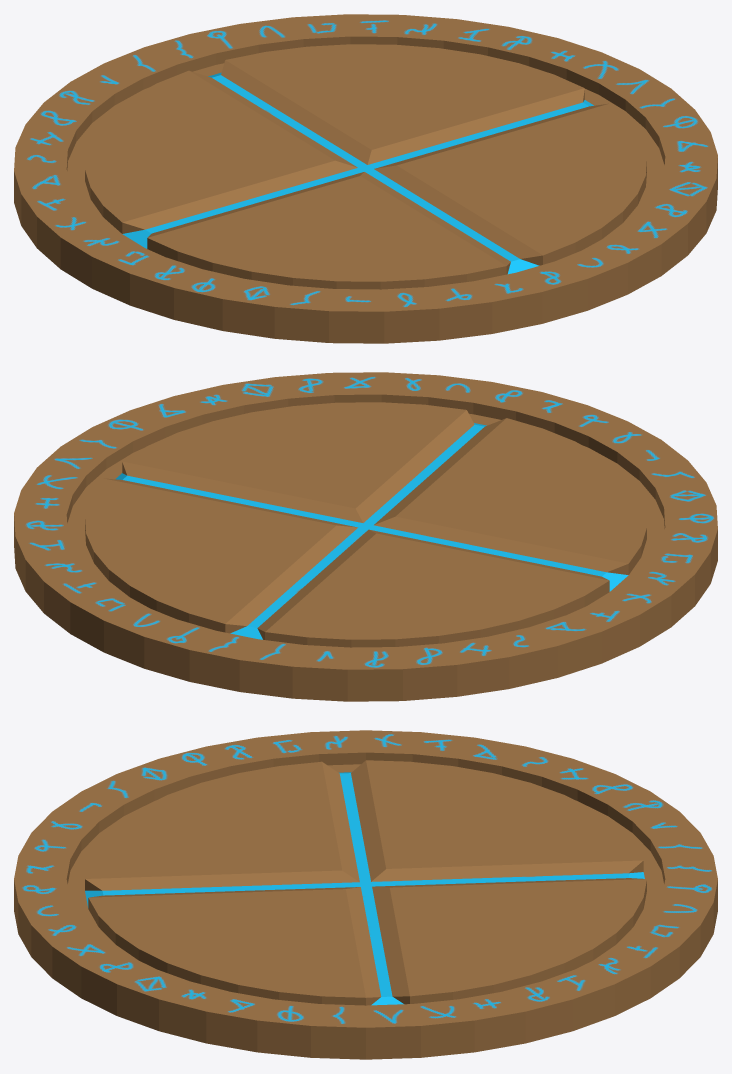
The model's file is portal.fbx.
3 views of the same model, one above another, from view 1: azimuth 30°, elevation 25°; view 2: azimuth 150°, elevation 25°; view 3: azimuth 270°, elevation 25° (orthographic).
Visible parts, largest first — view 1: Cilindro; view 2: Cilindro; view 3: Cilindro.
Boxes of the visible parts, x1=… form: Cilindro: x1=14, y1=14, x2=717, y2=343; Cilindro: x1=14, y1=372, x2=717, y2=701; Cilindro: x1=14, y1=730, x2=717, y2=1059.
Size of the model in its own units: 900 by 45 by 900.
1 material, 1 textured.
